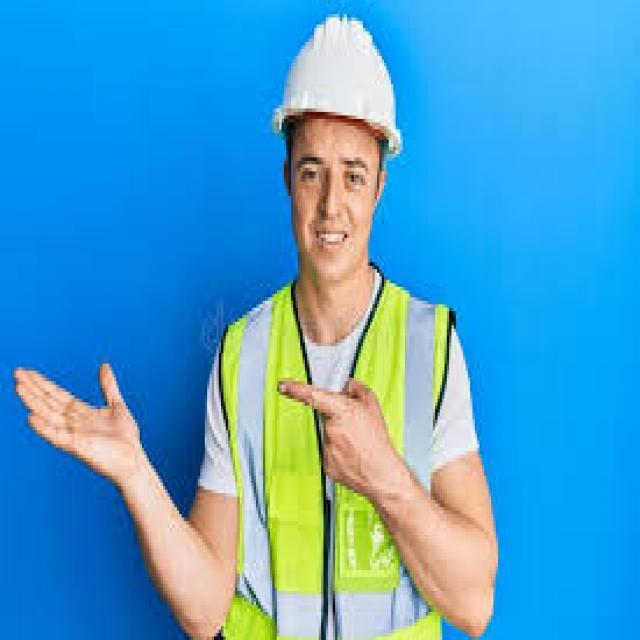reflective_jacket: (211, 283, 458, 632)
safety_helmet: (272, 13, 400, 150)
